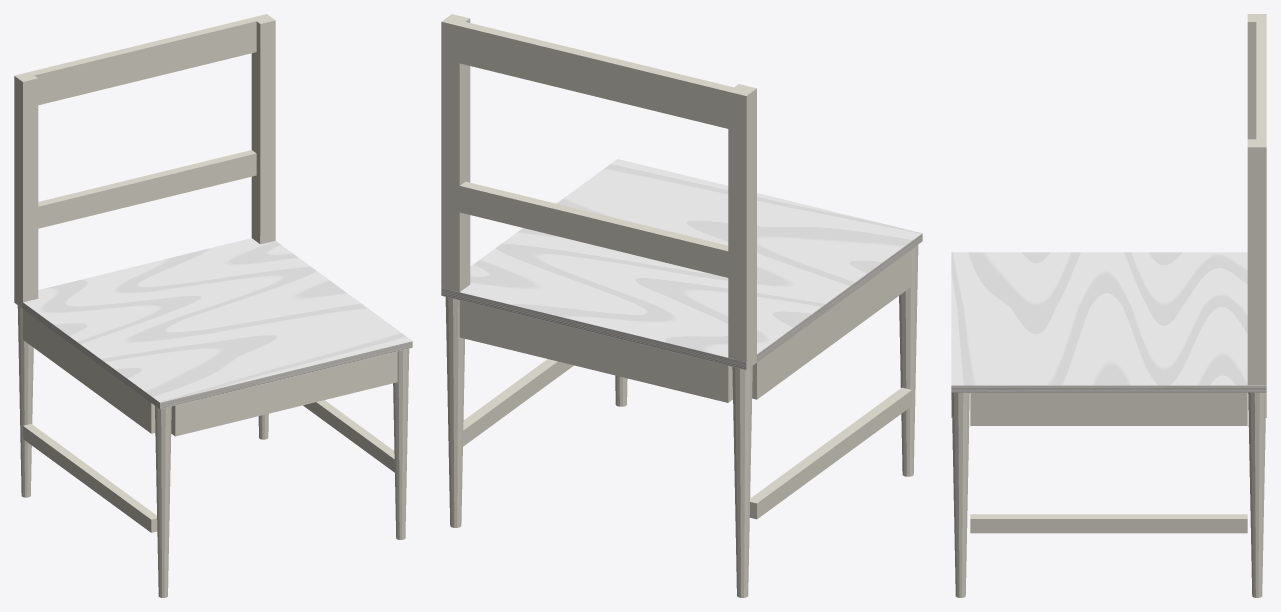
The model's file is LIT-DKC-std.glb.
3 renders of one model, left to right at view 1: azimuth 30°, elevation 25°; view 2: azimuth 150°, elevation 25°; view 3: azimuth 270°, elevation 25°, orthographic. The views are drawn at different scales.
Visible parts, largest first — view 1: seat:sheet:eyJtIjoicGx5Iiwic2lkZSI6ImZhY2UiLCJzZWVkIjo2LCJ2Z, back-top:pbr, leg-bl:pbr, rail-f:pbr, back-mid:pbr, leg-br:pbr, rail-l:pbr, stretcher-l:pbr, leg-fl:pbr, leg-fr:pbr, seat:sheet:eyJtIjoicGx5Iiwic2lkZSI6ImVkZ2UtbG9uZyIsInNlZWQiO, stretcher-r:pbr (+1 smaller); view 2: seat:sheet:eyJtIjoicGx5Iiwic2lkZSI6ImZhY2UiLCJzZWVkIjo2LCJ2Z, leg-bl:pbr, back-top:pbr, leg-br:pbr, rail-b:pbr, back-mid:pbr, rail-l:pbr, stretcher-l:pbr, leg-fl:pbr, seat:sheet:eyJtIjoicGx5Iiwic2lkZSI6ImVkZ2UtbG9uZyIsInNlZWQiO, stretcher-r:pbr, seat:sheet:eyJtIjoicGx5Iiwic2lkZSI6ImVkZ2UtZW5kIiwic2VlZCI6N; view 3: seat:sheet:eyJtIjoicGx5Iiwic2lkZSI6ImZhY2UiLCJzZWVkIjo2LCJ2Z, rail-r:pbr, leg-br:pbr, stretcher-r:pbr, leg-fr:pbr, seat:sheet:eyJtIjoicGx5Iiwic2lkZSI6ImVkZ2UtZW5kIiwic2VlZCI6N, leg-bl:pbr, back-top:pbr.
Boxes of the visible parts, x1,y1,x2,y2 form: seat:sheet:eyJtIjoicGx5Iiwic2lkZSI6ImZhY2UiLCJzZWVkIjo2LCJ2Z: (23, 236, 412, 402); back-top:pbr: (30, 17, 256, 105); leg-bl:pbr: (14, 72, 38, 497); rail-f:pbr: (171, 351, 397, 436); back-mid:pbr: (38, 150, 256, 228); leg-br:pbr: (251, 14, 275, 439); rail-l:pbr: (23, 309, 155, 433); stretcher-l:pbr: (23, 423, 157, 532); leg-fl:pbr: (155, 406, 171, 597); leg-fr:pbr: (393, 348, 409, 539); seat:sheet:eyJtIjoicGx5Iiwic2lkZSI6ImVkZ2UtbG9uZyIsInNlZWQiO: (160, 341, 412, 409); stretcher-r:pbr: (303, 400, 394, 472); seat:sheet:eyJtIjoicGx5Iiwic2lkZSI6ImZhY2UiLCJzZWVkIjo2LCJ2Z: (460, 159, 921, 357); leg-bl:pbr: (728, 84, 756, 597); back-top:pbr: (459, 22, 733, 128); leg-br:pbr: (441, 14, 470, 527); rail-b:pbr: (459, 300, 732, 402); back-mid:pbr: (459, 181, 728, 277); rail-l:pbr: (752, 249, 911, 399); stretcher-l:pbr: (749, 387, 911, 519); leg-fl:pbr: (899, 245, 918, 476); seat:sheet:eyJtIjoicGx5Iiwic2lkZSI6ImVkZ2UtbG9uZyIsInNlZWQiO: (441, 288, 746, 369); stretcher-r:pbr: (463, 359, 573, 446); seat:sheet:eyJtIjoicGx5Iiwic2lkZSI6ImVkZ2UtZW5kIiwic2VlZCI6N: (746, 233, 922, 369); seat:sheet:eyJtIjoicGx5Iiwic2lkZSI6ImZhY2UiLCJzZWVkIjo2LCJ2Z: (951, 252, 1266, 385); rail-r:pbr: (970, 392, 1247, 425); leg-br:pbr: (1247, 139, 1266, 597); stretcher-r:pbr: (970, 514, 1247, 533); leg-fr:pbr: (951, 392, 969, 597); seat:sheet:eyJtIjoicGx5Iiwic2lkZSI6ImVkZ2UtZW5kIiwic2VlZCI6N: (951, 385, 1266, 392); leg-bl:pbr: (1247, 14, 1266, 139); back-top:pbr: (1256, 22, 1266, 139).
Size of the model in its own units: 0.6001 by 0.95 by 0.6.
15 materials, 3 textured.
